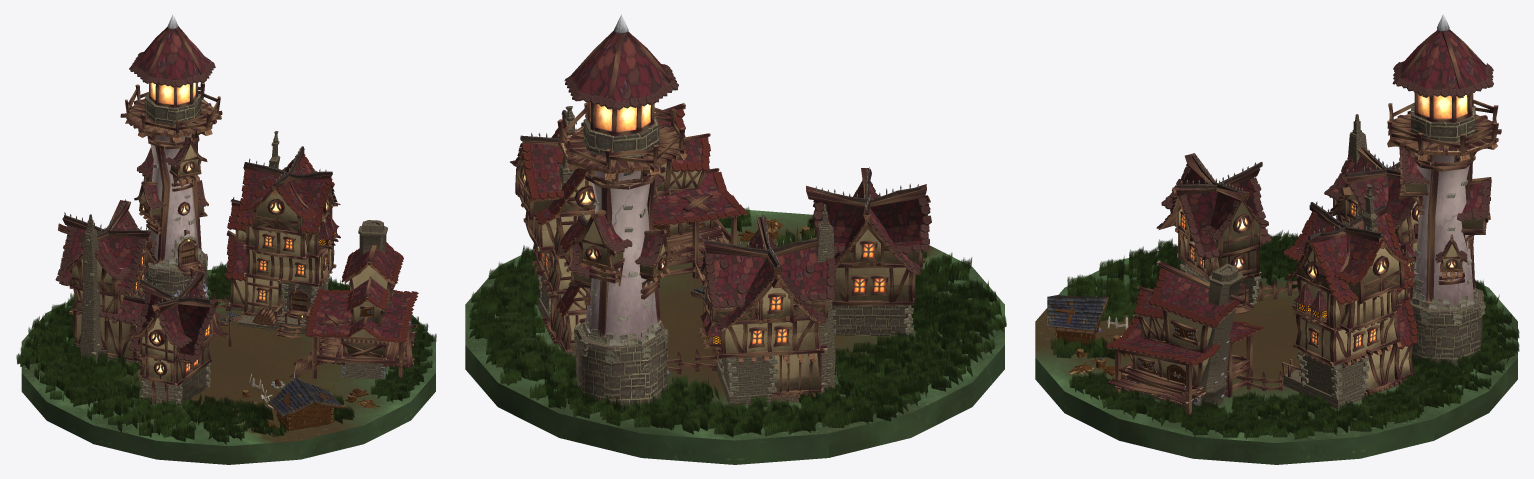
File: village.glb
The picture shows the model from 3 angles, left to right: view 1: azimuth 30°, elevation 25°; view 2: azimuth 150°, elevation 25°; view 3: azimuth 270°, elevation 25°; orthographic projection. The views are drawn at different scales.
Visible parts, largest first — view 1: Object_30, Object_26, Object_36, Object_23, Object_24, Object_19, Object_15, Object_8, Object_33, Object_20, Object_22, Object_5 (+7 smaller); view 2: Object_26, Object_30, Object_33, Object_24, Object_36, Object_5, Object_8, Object_35, Object_18, Object_6, Object_19, Object_23 (+7 smaller); view 3: Object_30, Object_26, Object_33, Object_23, Object_36, Object_15, Object_19, Object_21, Object_22, Object_20, Object_24, Object_8 (+9 smaller).
Boxes of the visible parts, left/top/right/bottom form: Object_30: left=21, top=269, right=435, bottom=464; Object_26: left=16, top=262, right=436, bottom=444; Object_36: left=120, top=26, right=231, bottom=346; Object_23: left=226, top=151, right=388, bottom=357; Object_24: left=58, top=200, right=226, bottom=403; Object_19: left=138, top=158, right=411, bottom=344; Object_15: left=225, top=146, right=418, bottom=342; Object_8: left=55, top=199, right=228, bottom=408; Object_33: left=129, top=14, right=215, bottom=289; Object_20: left=233, top=193, right=387, bottom=355; Object_22: left=190, top=245, right=416, bottom=381; Object_5: left=60, top=214, right=219, bottom=360; Object_26: left=467, top=204, right=1006, bottom=437; Object_30: left=465, top=210, right=1004, bottom=464; Object_33: left=564, top=14, right=678, bottom=362; Object_24: left=697, top=168, right=930, bottom=399; Object_36: left=557, top=30, right=705, bottom=338; Object_5: left=700, top=180, right=928, bottom=336; Object_8: left=698, top=167, right=931, bottom=396; Object_35: left=575, top=115, right=667, bottom=406; Object_18: left=716, top=204, right=906, bottom=405; Object_6: left=716, top=227, right=919, bottom=391; Object_19: left=515, top=115, right=921, bottom=313; Object_23: left=512, top=115, right=711, bottom=353; Object_30: left=1035, top=236, right=1517, bottom=464; Object_26: left=1050, top=229, right=1519, bottom=439; Object_33: left=1392, top=14, right=1493, bottom=324; Object_23: left=1134, top=205, right=1415, bottom=395; Object_36: left=1387, top=29, right=1501, bottom=308; Object_15: left=1105, top=201, right=1418, bottom=399; Object_19: left=1118, top=192, right=1412, bottom=359; Object_21: left=1136, top=184, right=1411, bottom=409; Object_22: left=1107, top=261, right=1258, bottom=415; Object_20: left=1131, top=248, right=1410, bottom=389; Object_24: left=1158, top=147, right=1418, bottom=314; Object_8: left=1156, top=145, right=1419, bottom=304.
Size of the model in its own units: 3884 by 3135 by 3837.
32 materials, 23 textured.
